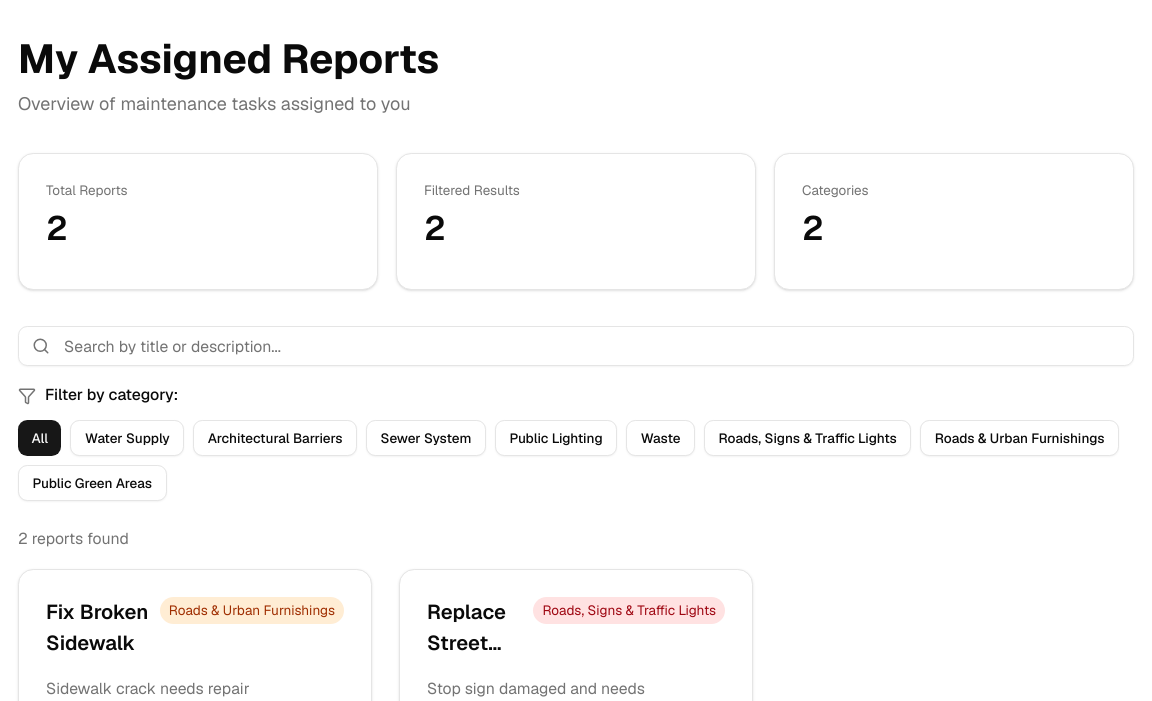
Scenario: ReportsList (Officer My Reports) › should filter reports by category
The image size is (1152, 701).
Check: the text "Fix Broken Sidewalk" is shown, box [46, 597, 151, 660]
Click the button "Roads, Signs & Traffic Lights": (808, 438) [704, 420, 911, 456]
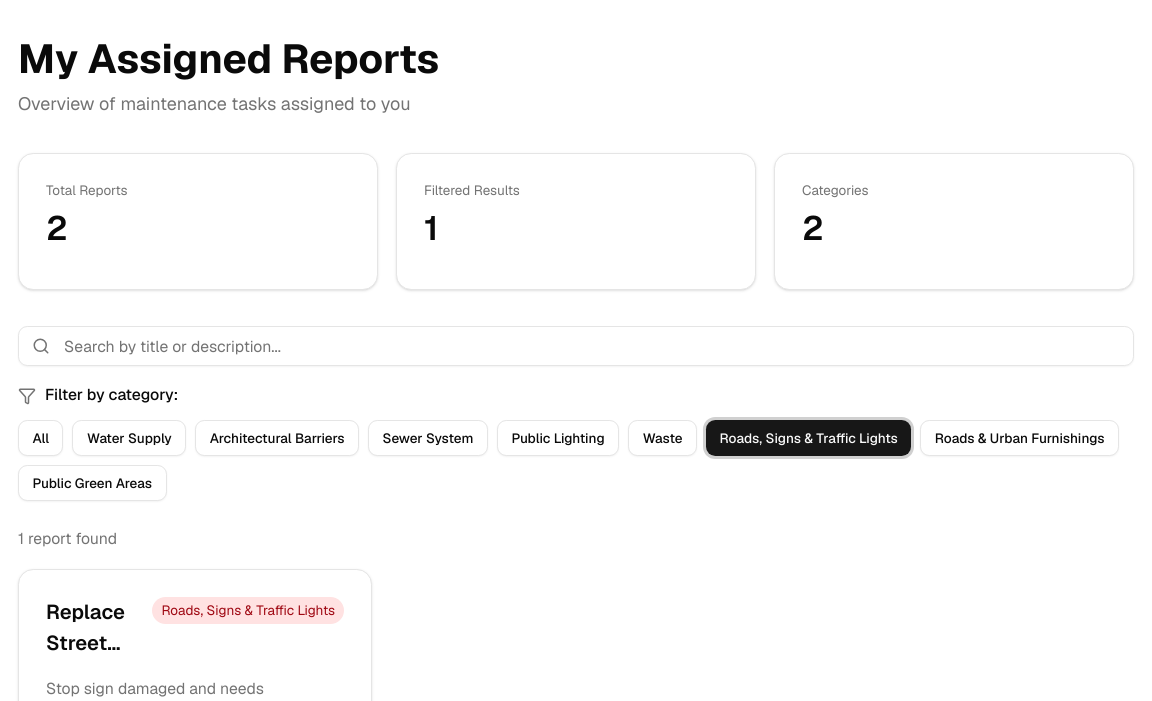
Check: the text "Replace Street Sign" is shown, box [46, 599, 125, 688]
Check: the text "Fix Broken Sidewalk" is gone
